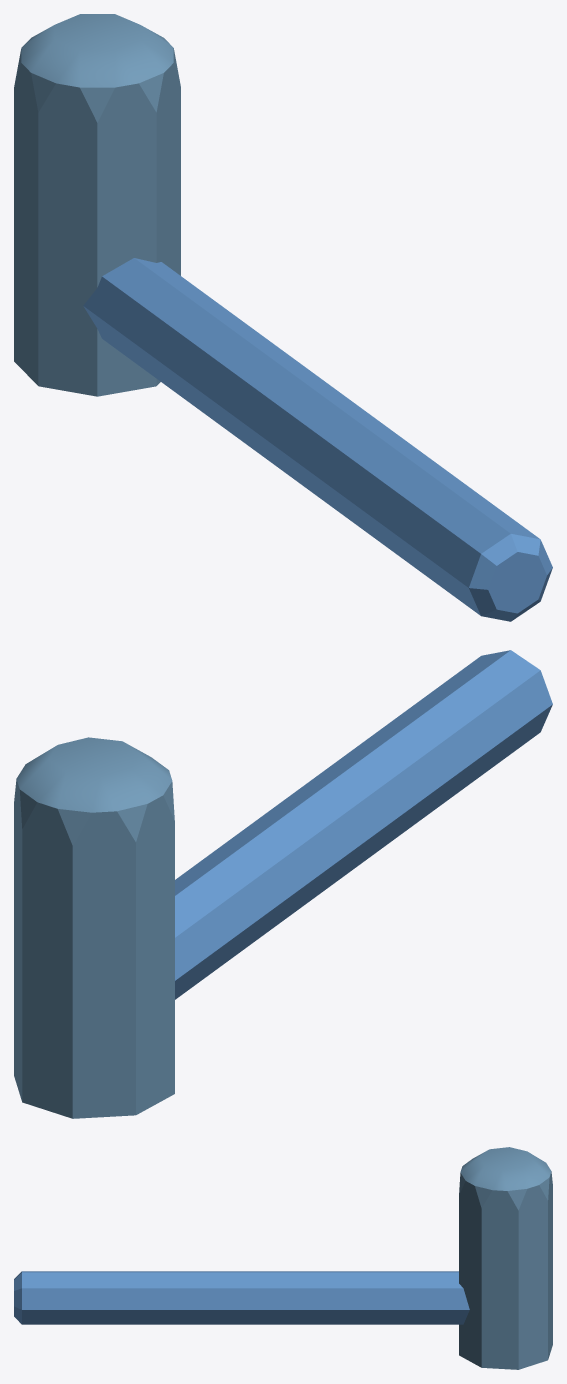
Rendered from PilarGiratorio.fbx.
3 views of the same model, one above another, from view 1: azimuth 30°, elevation 25°; view 2: azimuth 150°, elevation 25°; view 3: azimuth 270°, elevation 25° (orthographic). The views are drawn at different scales.
Visible parts, largest first — view 1: Pilar2; view 2: Pilar2; view 3: Pilar2.
Part boxes in pixels (<box>): Pilar2: <box>14,14,552,621</box>; Pilar2: <box>14,650,552,1118</box>; Pilar2: <box>14,1147,552,1369</box>.
Bounding box in the file's own units: 0.9358 × 2.1 × 5.36.
